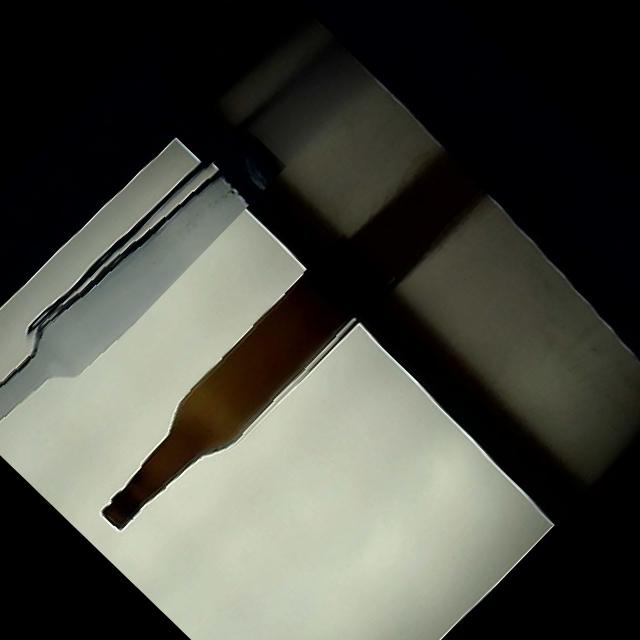Glass: (83, 228, 401, 553), (0, 113, 286, 458)
